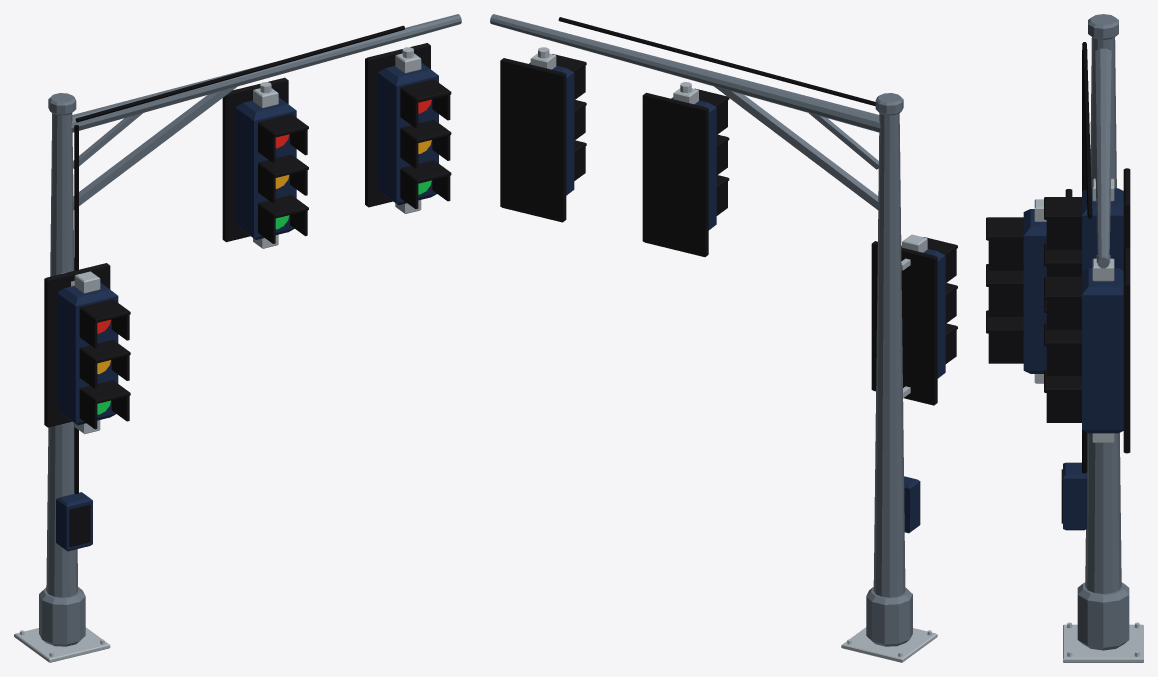
The model's file is PROP_01.obj.
3 renders of one model, left to right at view 1: azimuth 30°, elevation 25°; view 2: azimuth 150°, elevation 25°; view 3: azimuth 270°, elevation 25°, orthographic. The views are drawn at different scales.
Parts seen in each view (by area): view 1: PROP_01__visor, PROP_01__housing, PROP_01__pole, PROP_01__backplate, PROP_01__mast_arm, PROP_01__conduit, PROP_01__junction_box, PROP_01__mount, PROP_01__base; view 2: PROP_01__backplate, PROP_01__pole, PROP_01__mast_arm, PROP_01__visor, PROP_01__housing, PROP_01__conduit, PROP_01__base, PROP_01__mount, PROP_01__junction_box; view 3: PROP_01__visor, PROP_01__housing, PROP_01__pole, PROP_01__mast_arm, PROP_01__backplate, PROP_01__base, PROP_01__junction_box, PROP_01__conduit, PROP_01__mount.
Boxes of the visible parts, <box> form: PROP_01__visor: <box>79,79,451,429</box>; PROP_01__housing: <box>57,62,438,425</box>; PROP_01__pole: <box>39,93,85,646</box>; PROP_01__backplate: <box>44,43,430,427</box>; PROP_01__mast_arm: <box>71,14,461,209</box>; PROP_01__conduit: <box>74,25,404,493</box>; PROP_01__junction_box: <box>56,492,92,551</box>; PROP_01__mount: <box>74,53,421,434</box>; PROP_01__base: <box>14,627,110,662</box>; PROP_01__backplate: <box>500,58,937,405</box>; PROP_01__pole: <box>866,93,912,646</box>; PROP_01__mast_arm: <box>490,14,880,209</box>; PROP_01__visor: <box>552,54,957,363</box>; PROP_01__housing: <box>529,62,945,378</box>; PROP_01__conduit: <box>558,17,875,106</box>; PROP_01__base: <box>841,627,937,662</box>; PROP_01__mount: <box>530,53,927,252</box>; PROP_01__junction_box: <box>904,476,920,533</box>; PROP_01__visor: <box>986,197,1081,422</box>; PROP_01__housing: <box>1023,188,1123,433</box>; PROP_01__pole: <box>1077,14,1129,650</box>; PROP_01__mast_arm: <box>1093,48,1113,268</box>; PROP_01__backplate: <box>1065,168,1130,453</box>; PROP_01__base: <box>1063,622,1143,662</box>; PROP_01__junction_box: <box>1061,462,1087,530</box>; PROP_01__conduit: <box>1082,42,1092,473</box>; PROP_01__mount: <box>1034,178,1114,442</box>.
Bounding box in the file's own units: 4.21 × 5.12 × 1.17.
